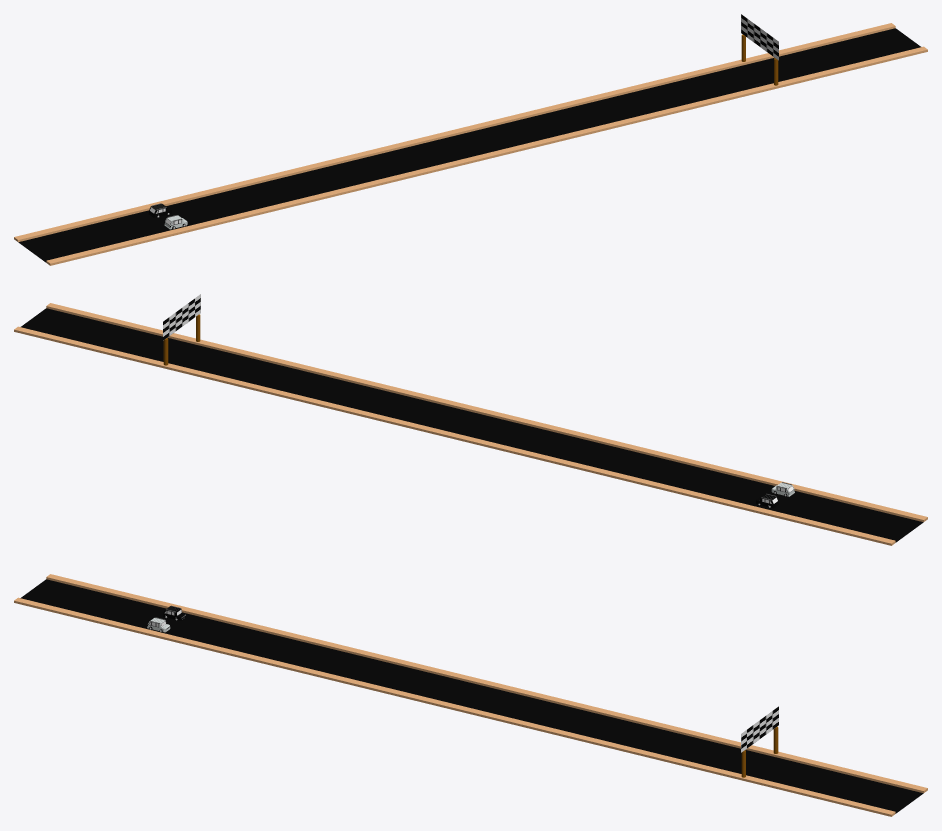
File: mobil.glb
3 views of the same model, one above another, from view 1: azimuth 30°, elevation 25°; view 2: azimuth 150°, elevation 25°; view 3: azimuth 330°, elevation 25° (orthographic).
Visible parts, largest first — view 1: Plane, Plane.001; view 2: Plane, Plane.001; view 3: Plane, Plane.001.
Boxes of the visible parts, bbox=[...] form: Plane: bbox=[14, 23, 927, 265]; Plane.001: bbox=[741, 14, 778, 60]; Plane: bbox=[14, 303, 927, 545]; Plane.001: bbox=[163, 294, 200, 340]; Plane: bbox=[14, 574, 927, 816]; Plane.001: bbox=[741, 706, 778, 752].
Size of the model in its own units: 232 by 11.96 by 17.31.
13 materials, 1 textured.
